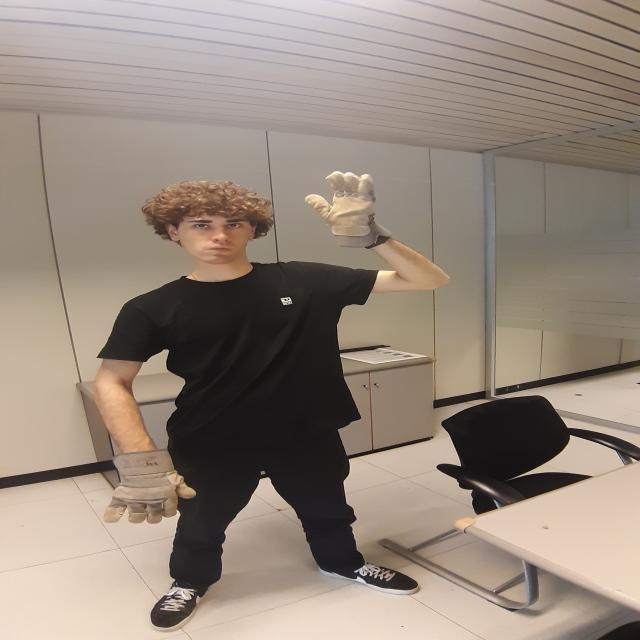gloved_hand: (105, 451, 195, 521), (307, 173, 389, 248)
